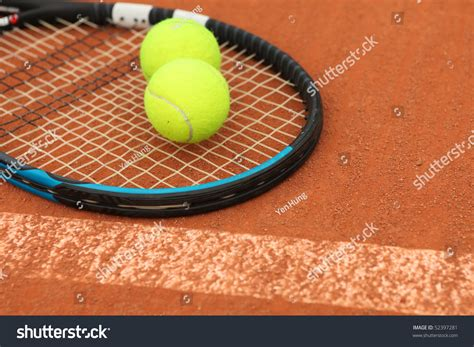tennis_ball: (144, 58, 230, 143), (139, 17, 220, 83)
